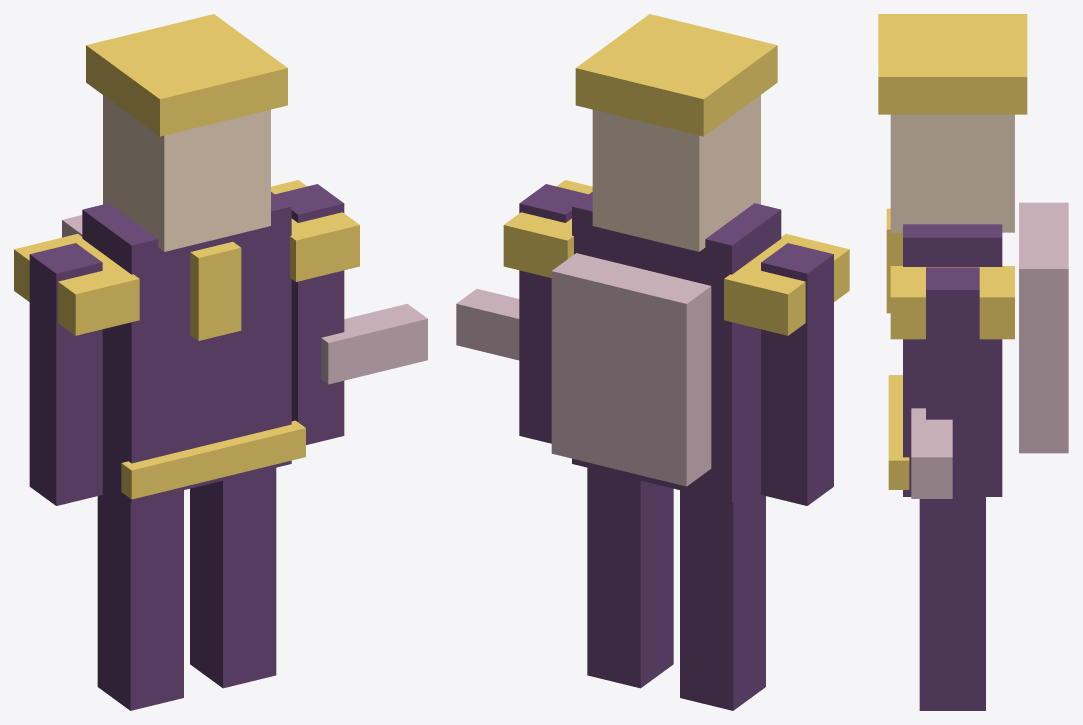
The model's file is 10_thorne_voxmere_warden_under_fracture.glb.
The picture shows the model from 3 angles, left to right: view 1: azimuth 30°, elevation 25°; view 2: azimuth 150°, elevation 25°; view 3: azimuth 270°, elevation 25°; orthographic projection.
Parts seen in each view (by area): view 1: Thorne Voxmere, Warden under Fracture; view 2: Thorne Voxmere, Warden under Fracture; view 3: Thorne Voxmere, Warden under Fracture.
Boxes of the visible parts, x1,y1,x2,y2 form: Thorne Voxmere, Warden under Fracture: [14, 14, 427, 710]; Thorne Voxmere, Warden under Fracture: [456, 14, 849, 710]; Thorne Voxmere, Warden under Fracture: [878, 14, 1068, 710].
Bounding box in the file's own units: 0.9861 × 1.61 × 0.4425.
